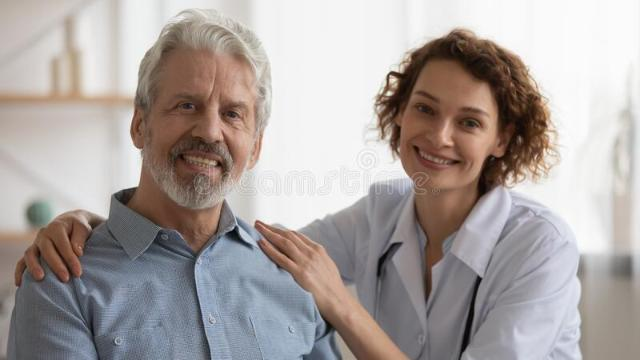forehead: (205, 56, 222, 84)
frown_line: (202, 78, 218, 102)
gummy_smile: (174, 122, 192, 142), (223, 132, 235, 160), (404, 131, 421, 145)
masseter: (464, 156, 478, 172)
